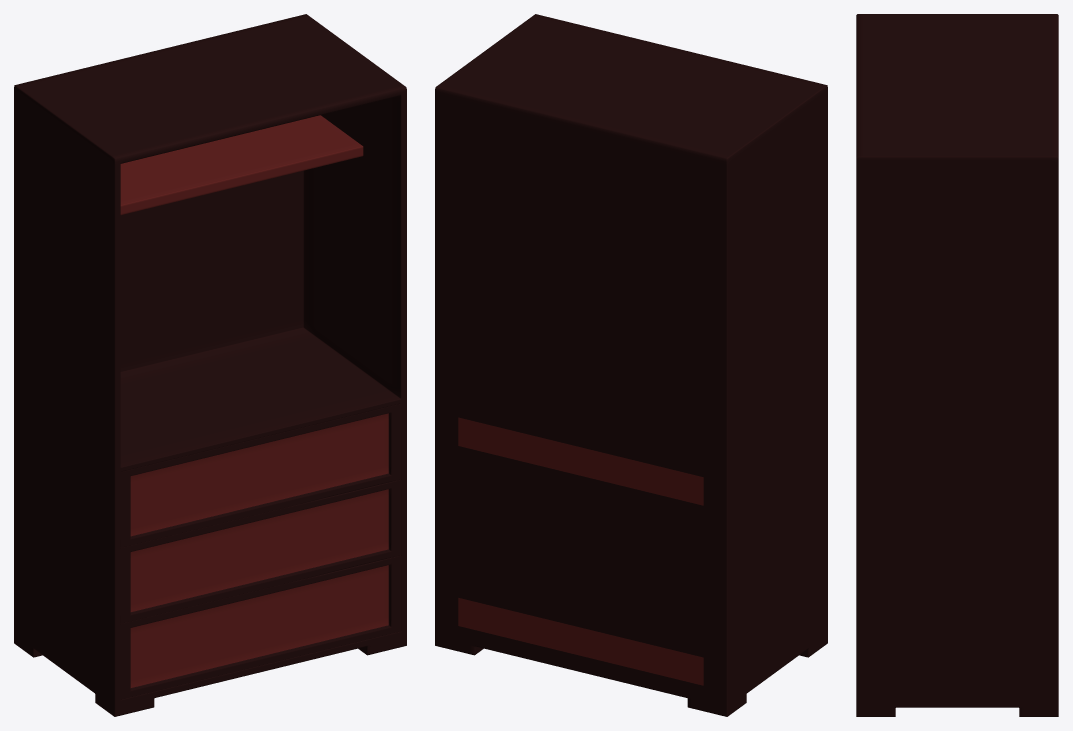
The model's file is Drawers.FBX.
The picture shows the model from 3 angles, left to right: view 1: azimuth 30°, elevation 25°; view 2: azimuth 150°, elevation 25°; view 3: azimuth 270°, elevation 25°; orthographic projection.
Visible parts, largest first — view 1: Drawers; view 2: Drawers; view 3: Drawers.
Part boxes in pixels (box(x1,y1,x2,y2)): Drawers: box(14, 14, 406, 716); Drawers: box(435, 14, 827, 716); Drawers: box(856, 14, 1058, 716).
Size of the model in its own units: 55.28 by 101 by 33.07.
